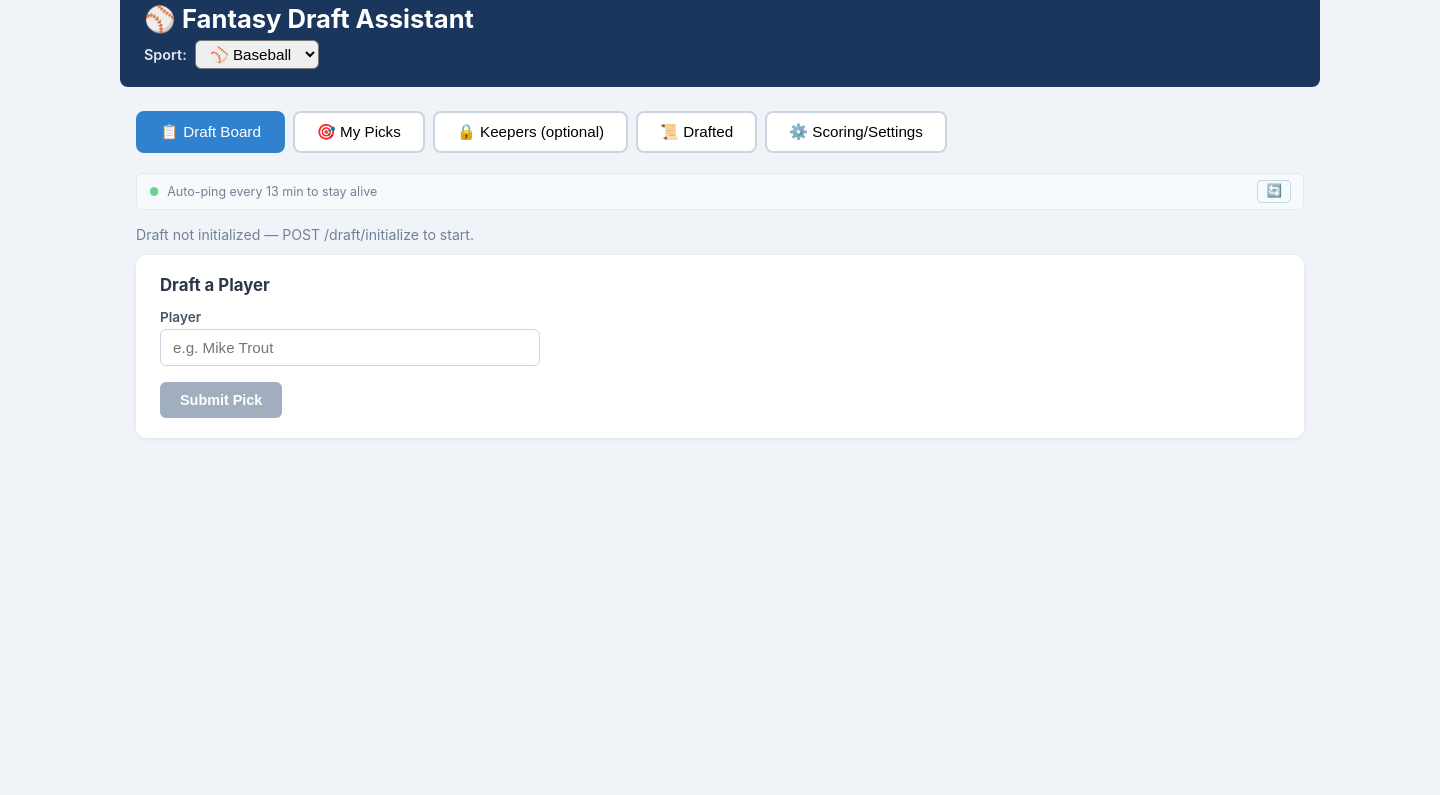
Test case: Keeper grid › shows Submit All Keepers button
The width and height of the screenshot is (1440, 795).
What coordinates should you click on to do the following:
click the tab "🔒 Keepers (optional)"
I would click on:
 (530, 132)
Its box is [433,111,628,153].
(page scrolled)
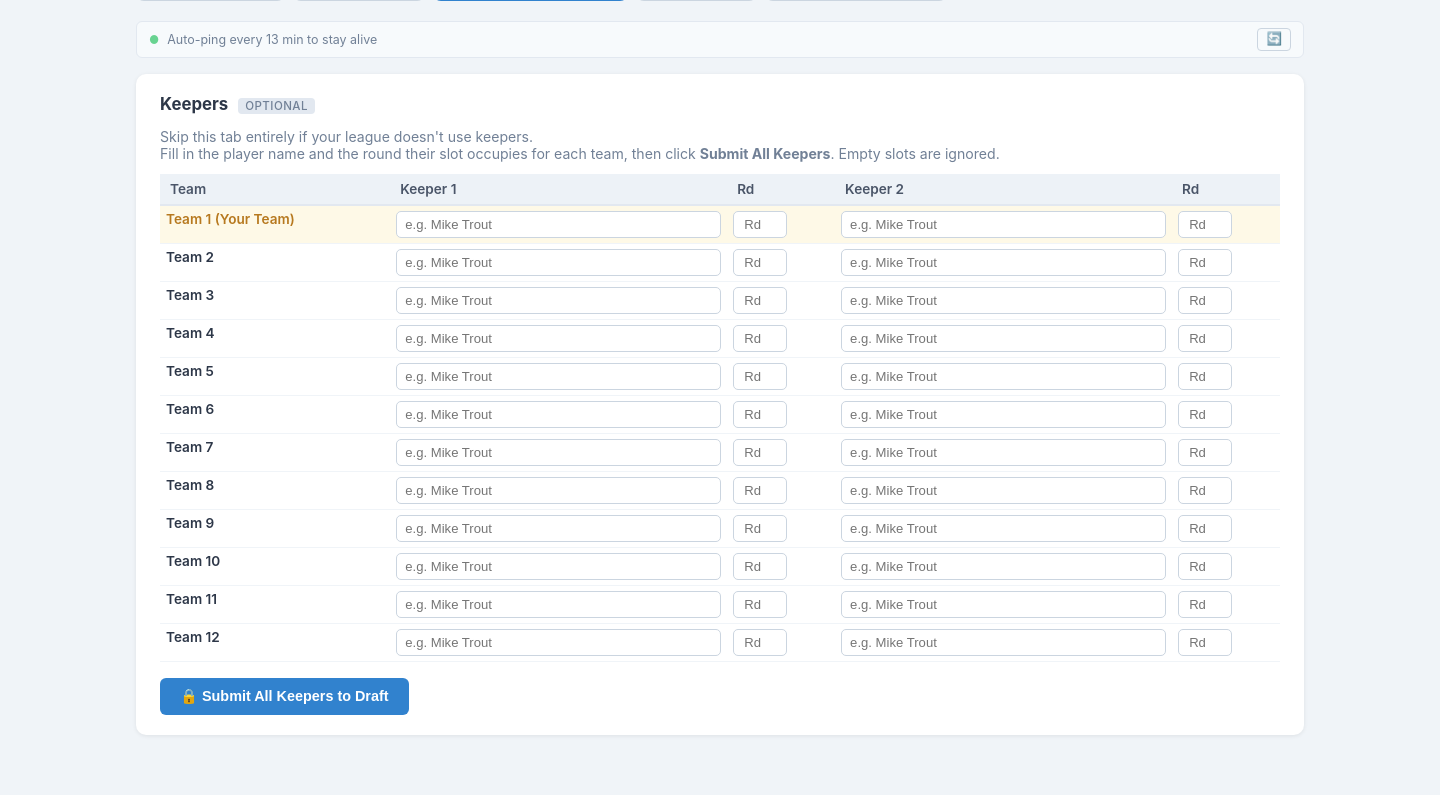
Expected: the button "🔒 Submit All Keepers to Draft" is shown, [160,678,408,716]
